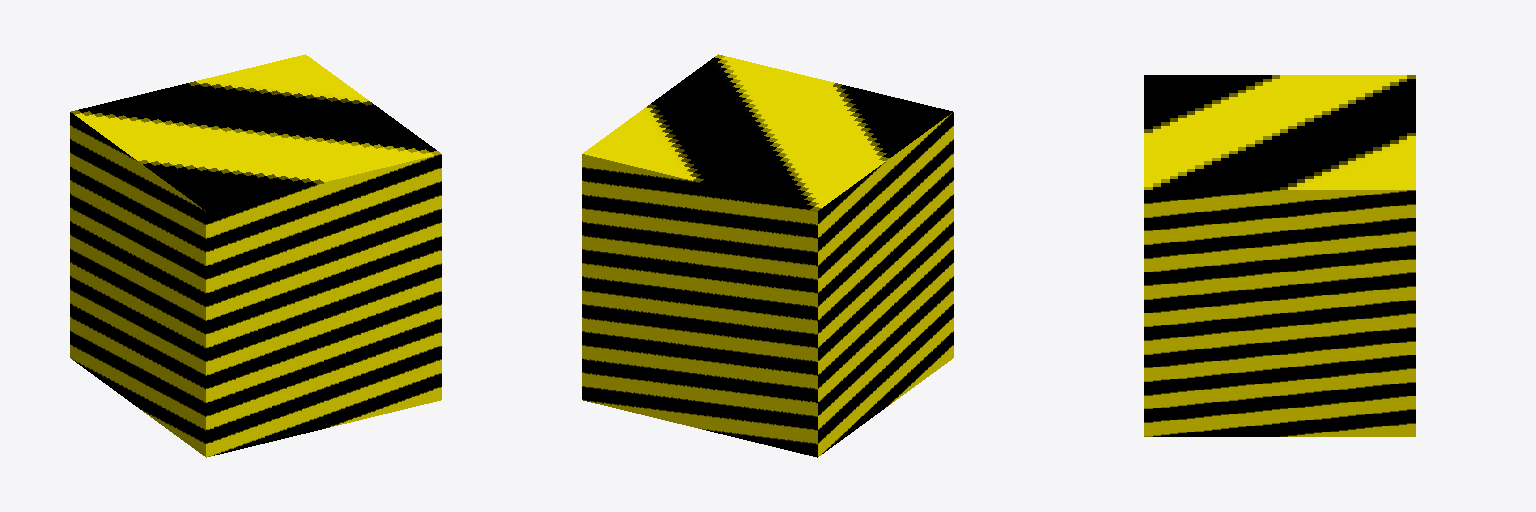
3 renders of one model, left to right at view 1: azimuth 30°, elevation 25°; view 2: azimuth 150°, elevation 25°; view 3: azimuth 270°, elevation 25°, orthographic.
Parts seen in each view (by area): view 1: Cube; view 2: Cube; view 3: Cube.
Part boxes in pixels (bbox=[...]): Cube: bbox=[70, 54, 441, 457]; Cube: bbox=[582, 54, 953, 457]; Cube: bbox=[1144, 75, 1415, 436].
Size of the model in its own units: 1 by 1 by 1.
1 materials, 1 textured.